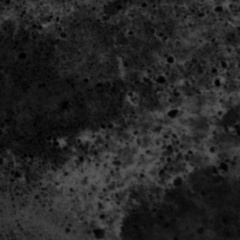Vegetation: (2, 175, 123, 240), (132, 107, 227, 167), (69, 133, 151, 190), (142, 2, 240, 45), (174, 86, 239, 116)
